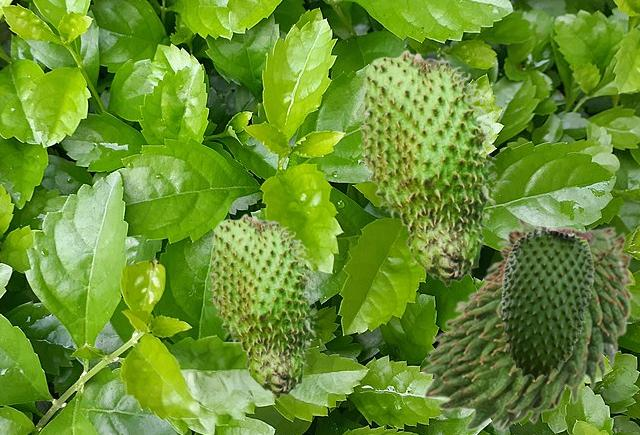guyabano: (419, 215, 634, 430), (357, 49, 498, 286), (207, 213, 317, 398), (500, 226, 593, 380)
